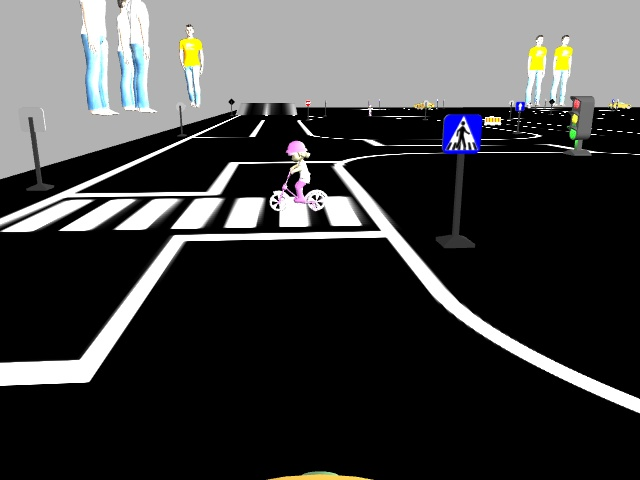Crosswalk: (442, 112, 480, 154)
Pedestrian: (270, 137, 330, 214)
TrafficLight: (568, 93, 596, 143)
